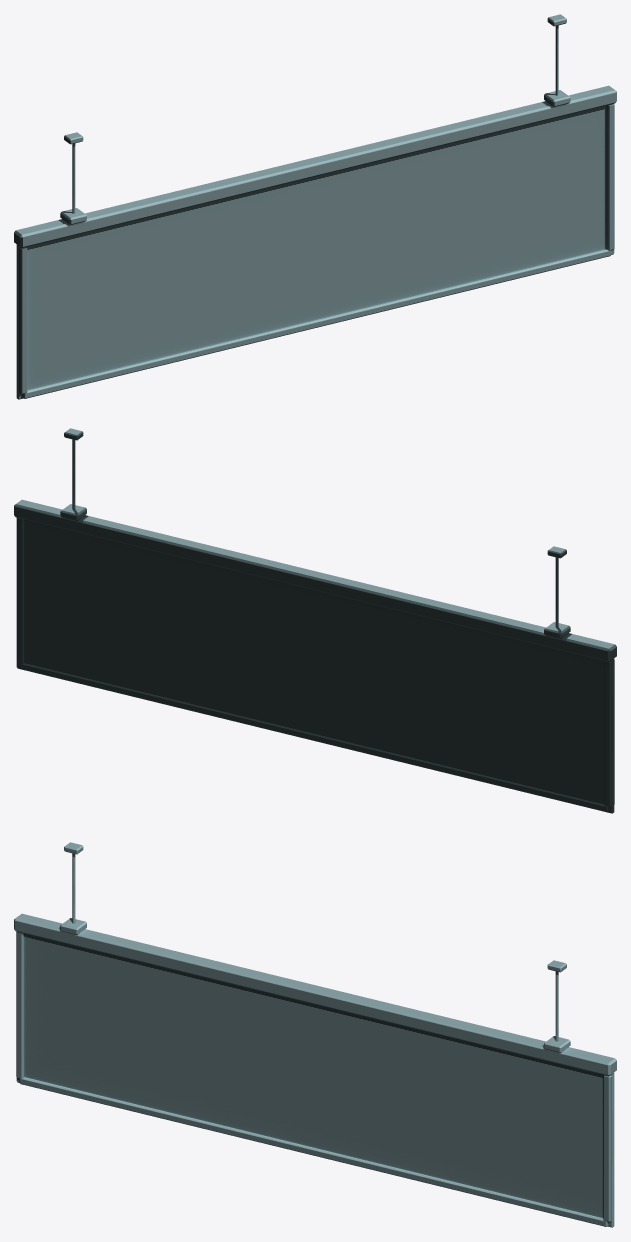
The model's file is 0-20261016-1900-ev006-r01-lobby-glassbanner_baked.glb.
3 renders of one model, top to bottom at view 1: azimuth 30°, elevation 25°; view 2: azimuth 150°, elevation 25°; view 3: azimuth 330°, elevation 25°, orthographic.
Visible parts, largest first — view 1: SW_Lobby_GlassBanner; view 2: SW_Lobby_GlassBanner; view 3: SW_Lobby_GlassBanner.
Boxes of the visible parts, x1=… form: SW_Lobby_GlassBanner: x1=14, y1=14, x2=616, y2=399; SW_Lobby_GlassBanner: x1=14, y1=428, x2=616, y2=813; SW_Lobby_GlassBanner: x1=14, y1=842, x2=616, y2=1227.
Size of the model in its own units: 4 by 1.6 by 0.12.
Materials: 1 (1 with a texture image).
